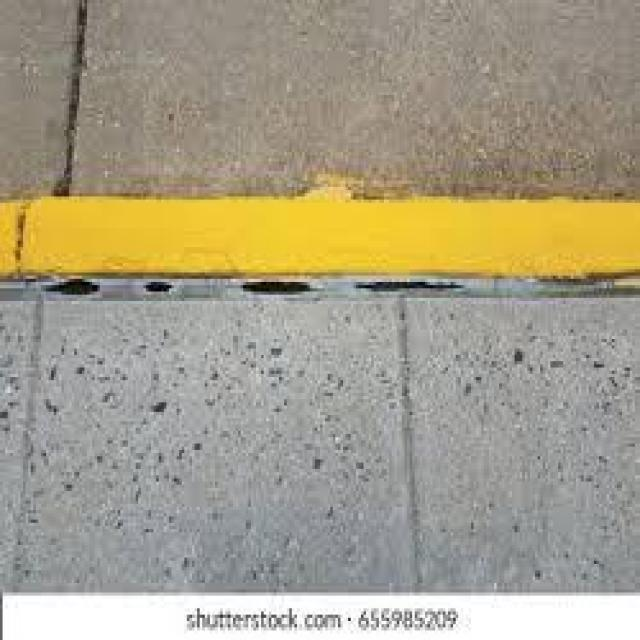bump: (0, 159, 640, 335)
